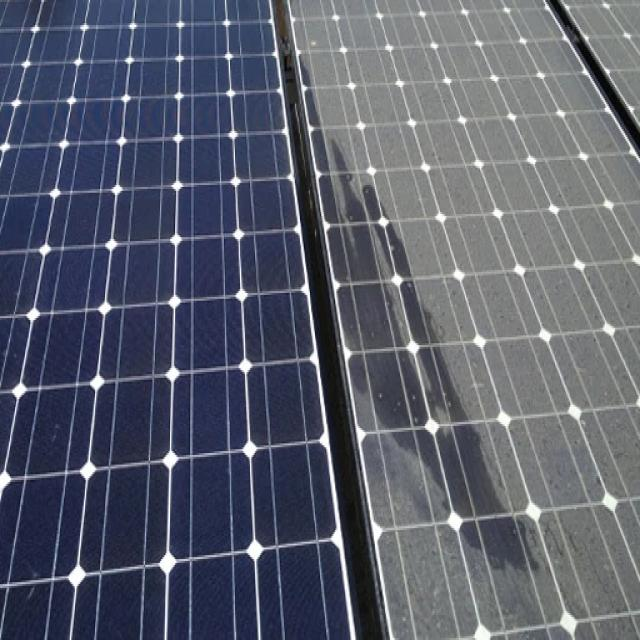dust-solar-panel: (287, 0, 640, 640)
